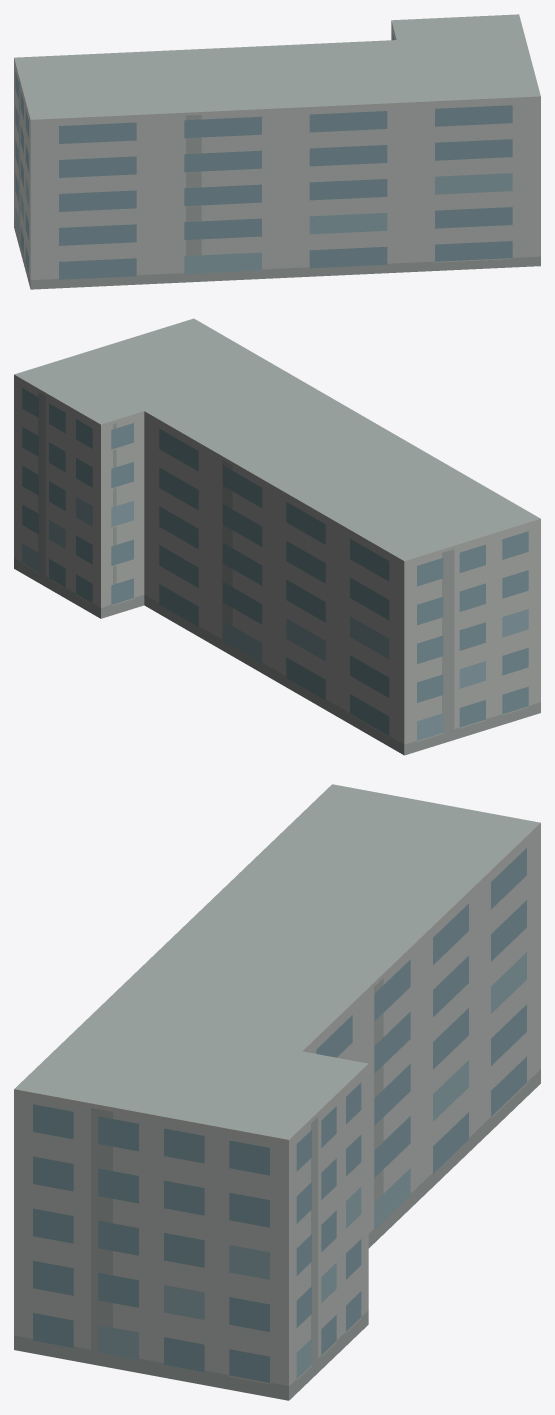
File: survey-upis-32708898.glb
3 views of the same model, one above another, from view 1: azimuth 30°, elevation 25°; view 2: azimuth 150°, elevation 25°; view 3: azimuth 270°, elevation 25° (orthographic). The views are drawn at different scales.
Visible parts, largest first — view 1: survey-upis-32708898.tmp; view 2: survey-upis-32708898.tmp; view 3: survey-upis-32708898.tmp.
Boxes of the visible parts, box(x1,y1,x2,y2) form: survey-upis-32708898.tmp: box(14, 14, 540, 289); survey-upis-32708898.tmp: box(14, 318, 540, 755); survey-upis-32708898.tmp: box(14, 784, 540, 1400).
Size of the model in its own units: 41.84 by 14.3 by 26.19.
